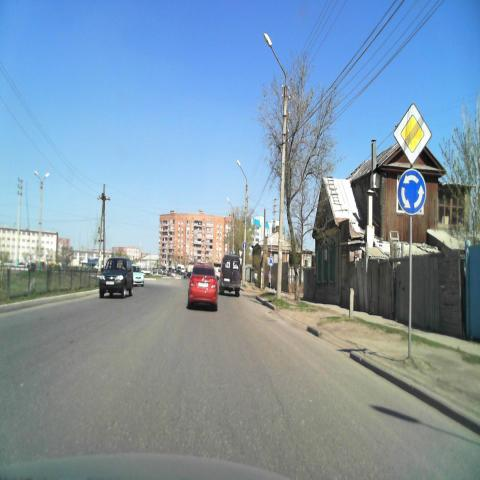4_3: (398, 169, 426, 215)
